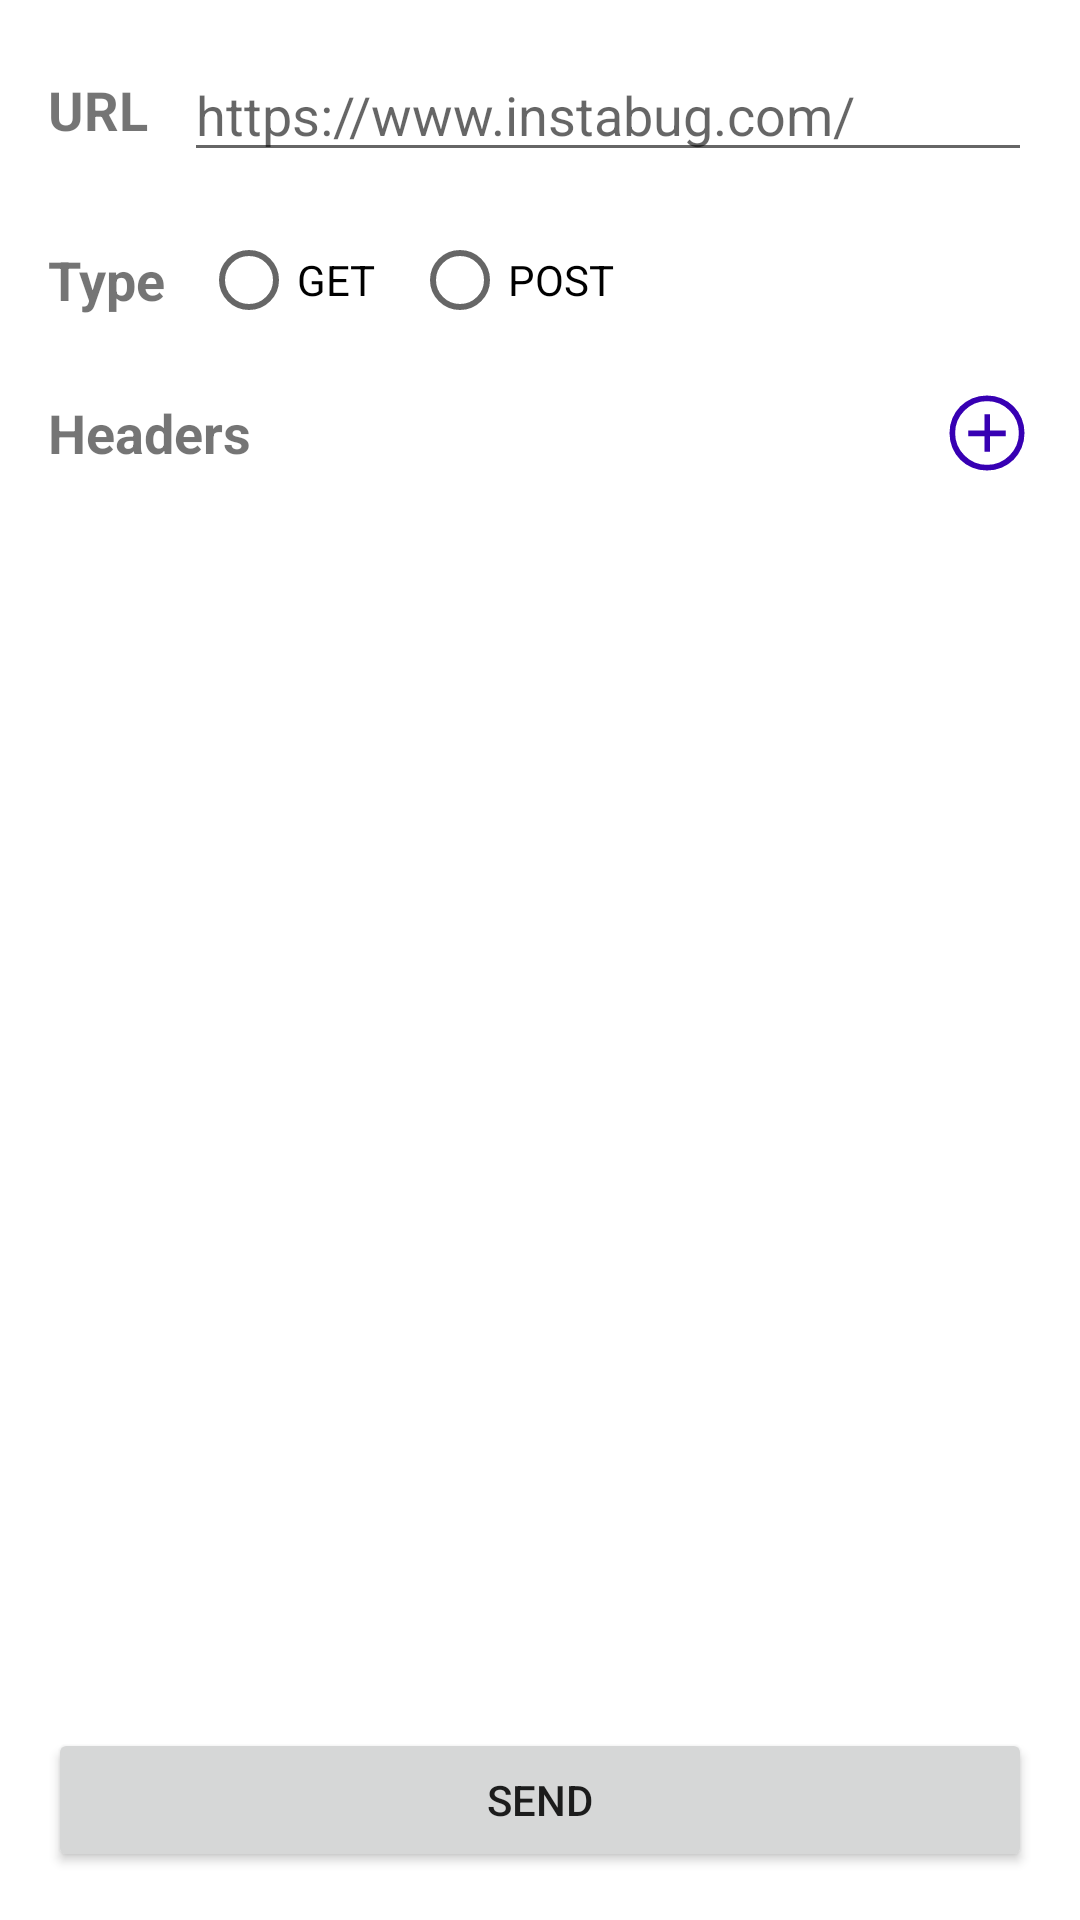

Point at icon controls on the screen. Image size 1080 x 1920, points as [x,y].
add: [987,433]
